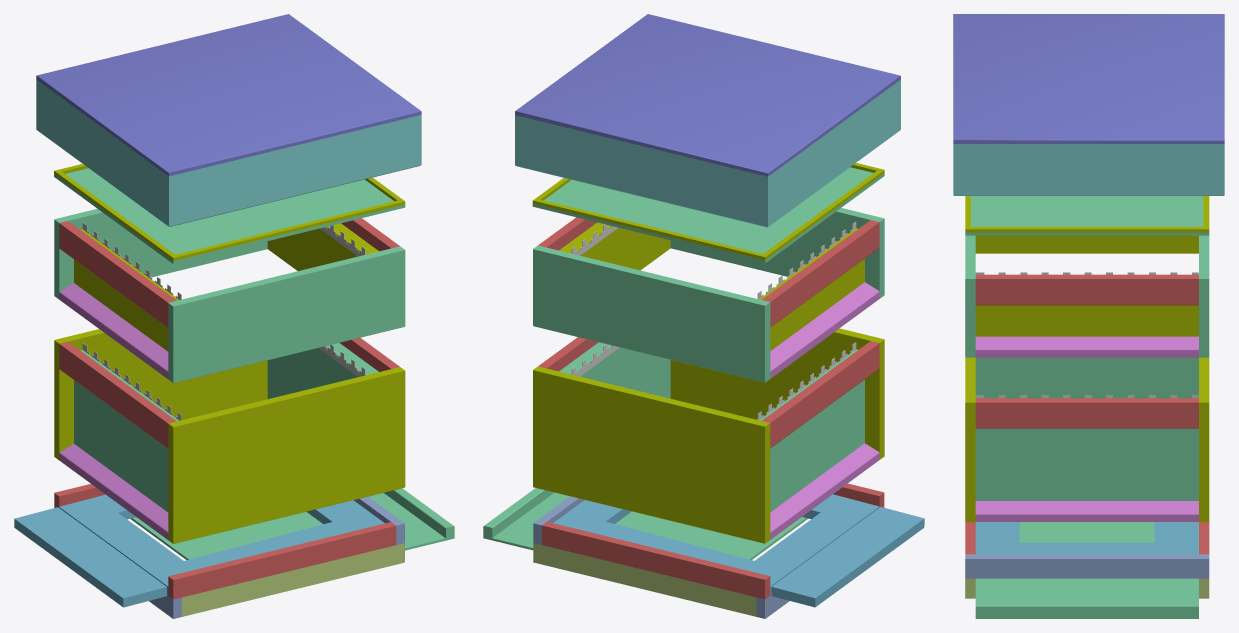
The model's file is beehive.glb.
3 views of the same model, side by side, from view 1: azimuth 30°, elevation 25°; view 2: azimuth 150°, elevation 25°; view 3: azimuth 270°, elevation 25° (orthographic). The views are drawn at different scales.
Parts seen in each view (by area): view 1: bijenkast (×10); view 2: bijenkast (×10); view 3: bijenkast (×10).
Boxes of the visible parts, <box> form: bijenkast (×10): <box>14,14,454,618</box>; bijenkast (×10): <box>483,14,924,618</box>; bijenkast (×10): <box>953,14,1224,618</box>.
Size of the model in its own units: 0.6755 by 0.8834 by 0.4685.
